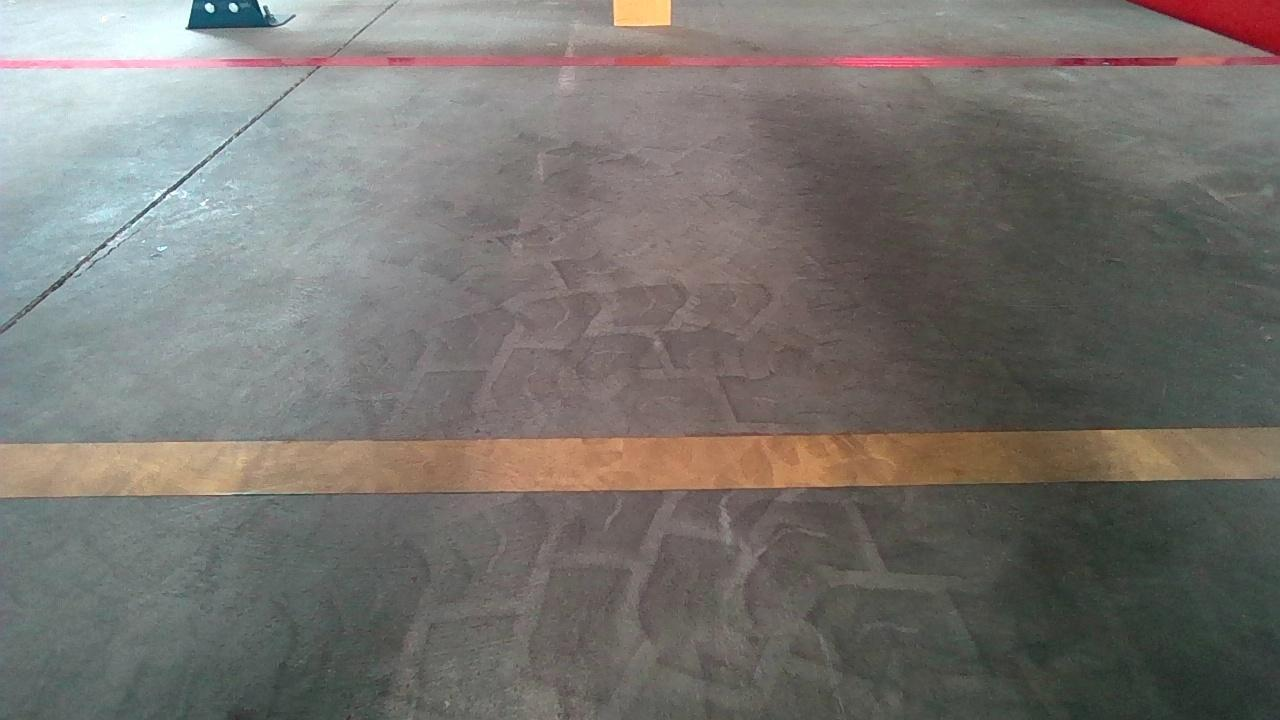red_line: (0, 55, 1280, 68)
yellow_line: (0, 425, 1271, 499)
